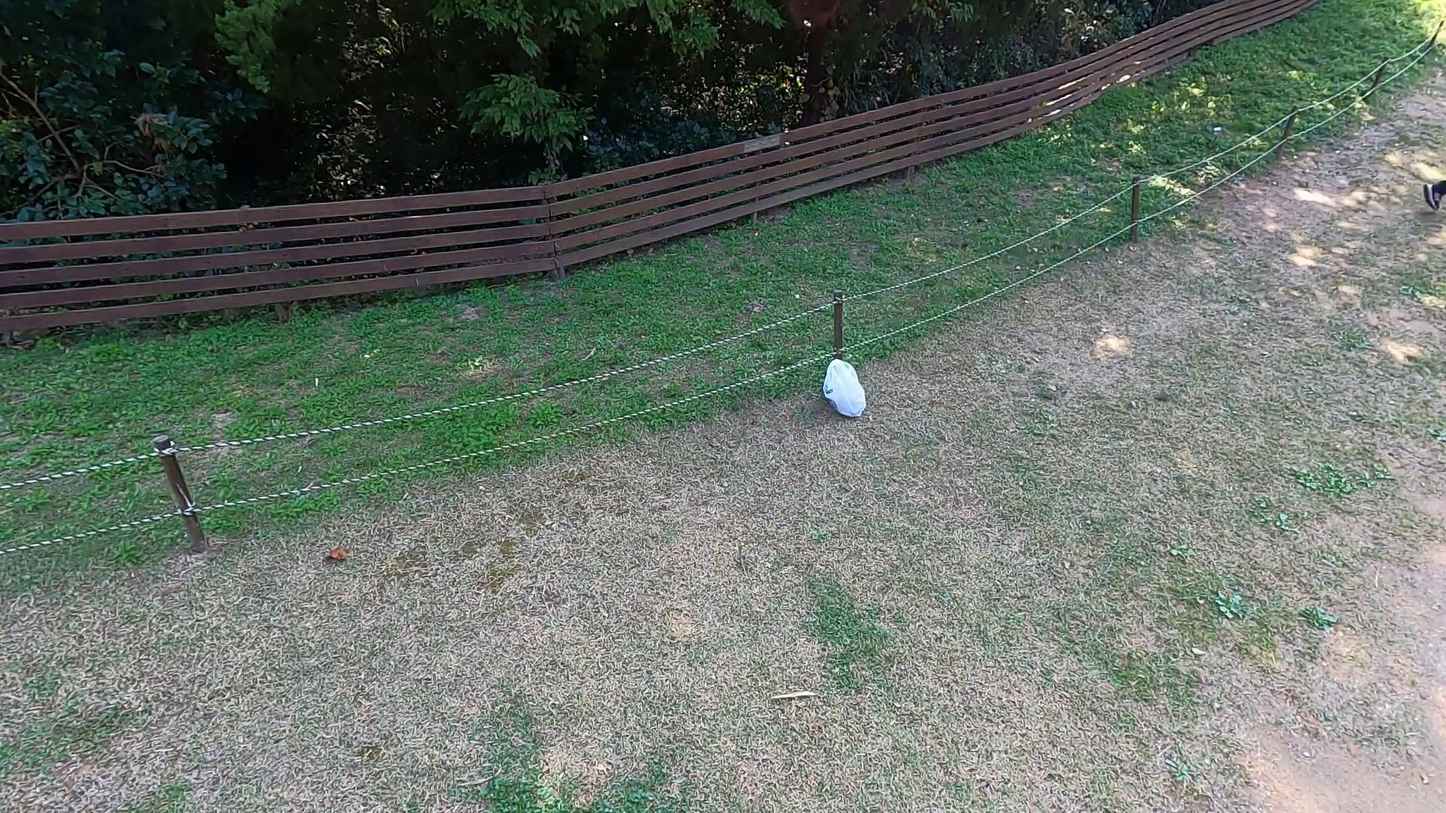trash: (817, 354, 874, 425)
